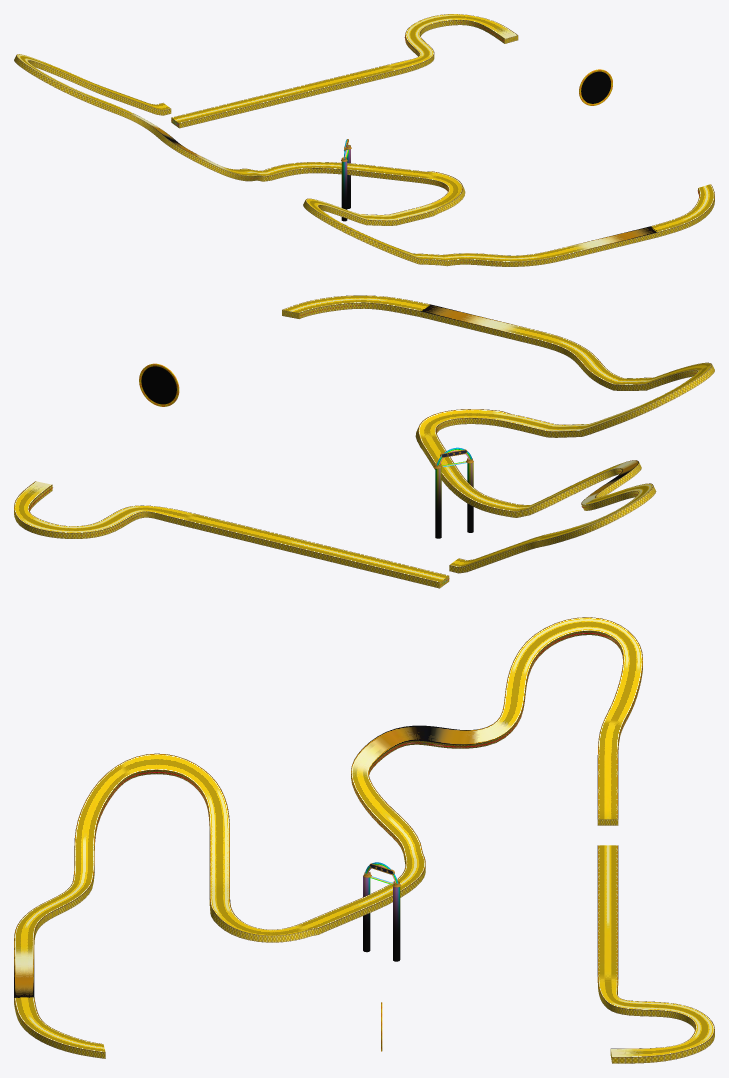
Rendered from rainbow.obj.
3 views of the same model, one above another, from view 1: azimuth 30°, elevation 25°; view 2: azimuth 150°, elevation 25°; view 3: azimuth 270°, elevation 25° (orthographic). The views are drawn at different scales.
Visible parts, largest first — view 1: 002_Merged_Objects_1, 006_Body_LOD0, 005_Buffer_Object; view 2: 002_Merged_Objects_1, 006_Body_LOD0, 005_Buffer_Object; view 3: 002_Merged_Objects_1, 005_Buffer_Object, 003_Merged_Objects.
Boxes of the visible parts, x1,y1,x2,y2 form: 002_Merged_Objects_1: (14,14,714,266); 006_Body_LOD0: (579,69,612,105); 005_Buffer_Object: (341,139,350,221); 002_Merged_Objects_1: (14,295,714,588); 006_Body_LOD0: (139,363,179,406); 005_Buffer_Object: (435,447,473,538); 002_Merged_Objects_1: (14,617,714,1063); 005_Buffer_Object: (363,862,400,961); 003_Merged_Objects: (94,633,642,852).
Size of the model in its own units: 131 by 37.01 by 124.
5 materials, 4 textured.
